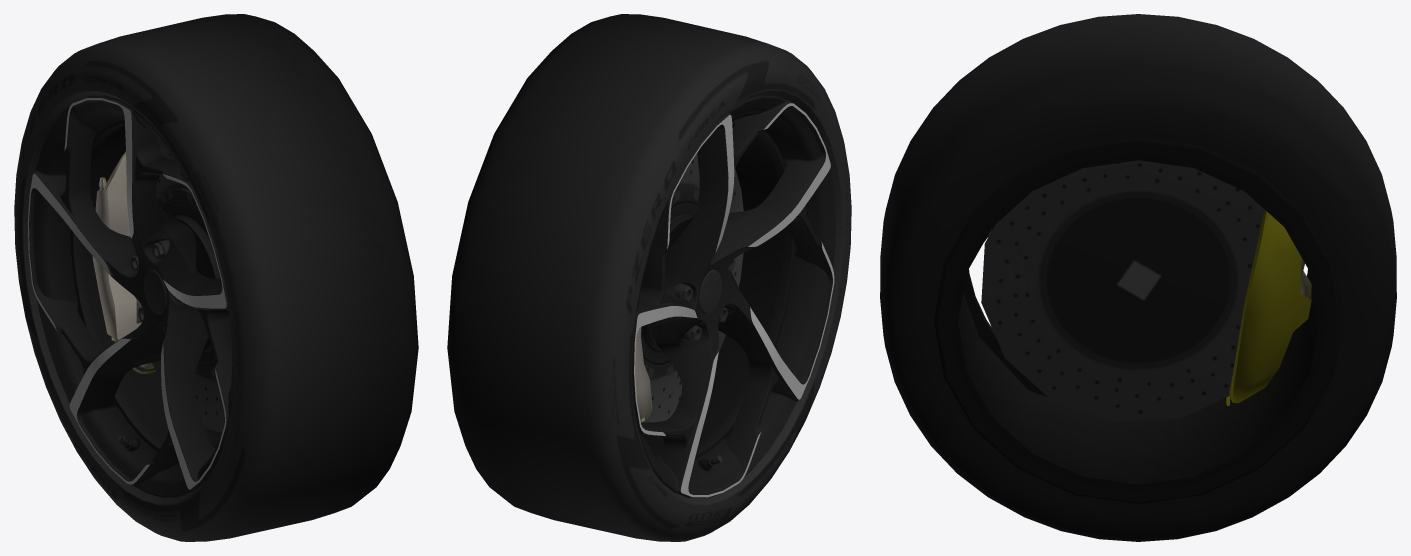
The model's file is wheels_rf.glb.
3 renders of one model, left to right at view 1: azimuth 30°, elevation 25°; view 2: azimuth 150°, elevation 25°; view 3: azimuth 270°, elevation 25°, orthographic.
Visible parts, largest first — view 1: polySurface317_McLaren_Elva_2021_Wheel1A_3D_3DWheel1A_Materi, polySurface280_McLaren_Elva_2021_Wheel1A_3D_3DWheel1A_Materi; view 2: polySurface317_McLaren_Elva_2021_Wheel1A_3D_3DWheel1A_Materi, polySurface280_McLaren_Elva_2021_Wheel1A_3D_3DWheel1A_Materi; view 3: polySurface280_McLaren_Elva_2021_Wheel1A_3D_3DWheel1A_Materi, polySurface317_McLaren_Elva_2021_Wheel1A_3D_3DWheel1A_Materi.
Part boxes in pixels (<box>): polySurface317_McLaren_Elva_2021_Wheel1A_3D_3DWheel1A_Materi: <box>14,14,418,541</box>; polySurface280_McLaren_Elva_2021_Wheel1A_3D_3DWheel1A_Materi: <box>27,95,233,497</box>; polySurface317_McLaren_Elva_2021_Wheel1A_3D_3DWheel1A_Materi: <box>447,14,851,541</box>; polySurface280_McLaren_Elva_2021_Wheel1A_3D_3DWheel1A_Materi: <box>632,95,835,498</box>; polySurface280_McLaren_Elva_2021_Wheel1A_3D_3DWheel1A_Materi: <box>934,137,1342,504</box>; polySurface317_McLaren_Elva_2021_Wheel1A_3D_3DWheel1A_Materi: <box>880,14,1396,541</box>.
Size of the model in its own units: 0.00267 by 0.00656 by 0.00654.
2 materials, 1 textured.
